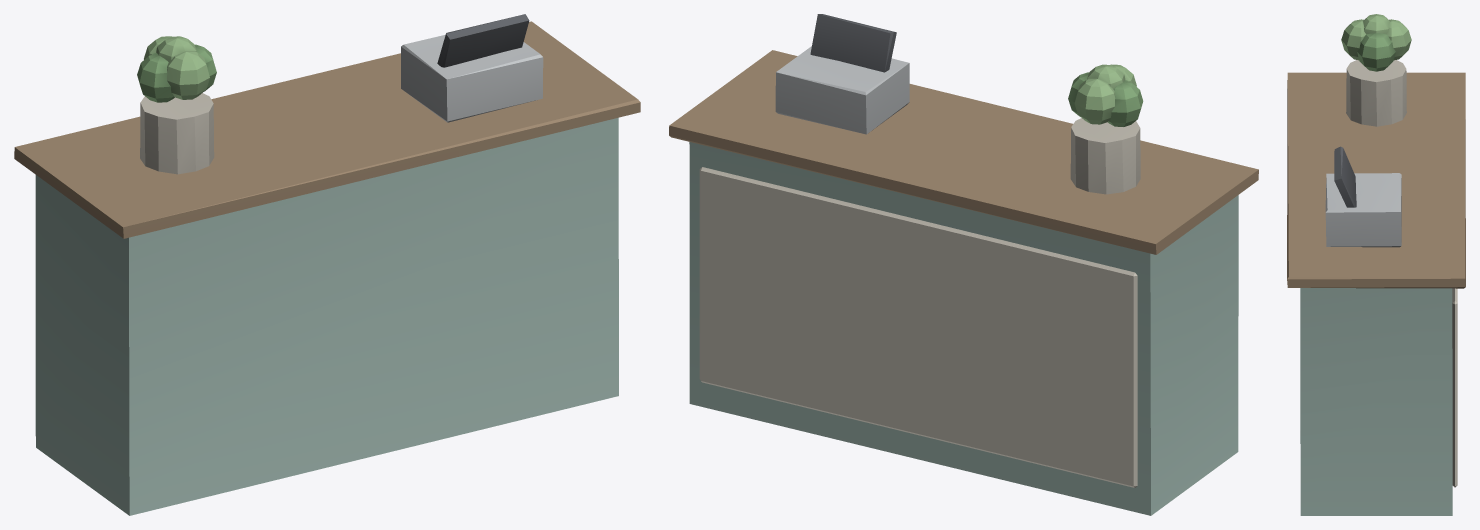
The model's file is petshop_counter_low.glb.
3 renders of one model, left to right at view 1: azimuth 30°, elevation 25°; view 2: azimuth 150°, elevation 25°; view 3: azimuth 270°, elevation 25°, orthographic. The views are drawn at different scales.
Bounding box in the file's own units: 1.89 × 1.47 × 0.6946.
